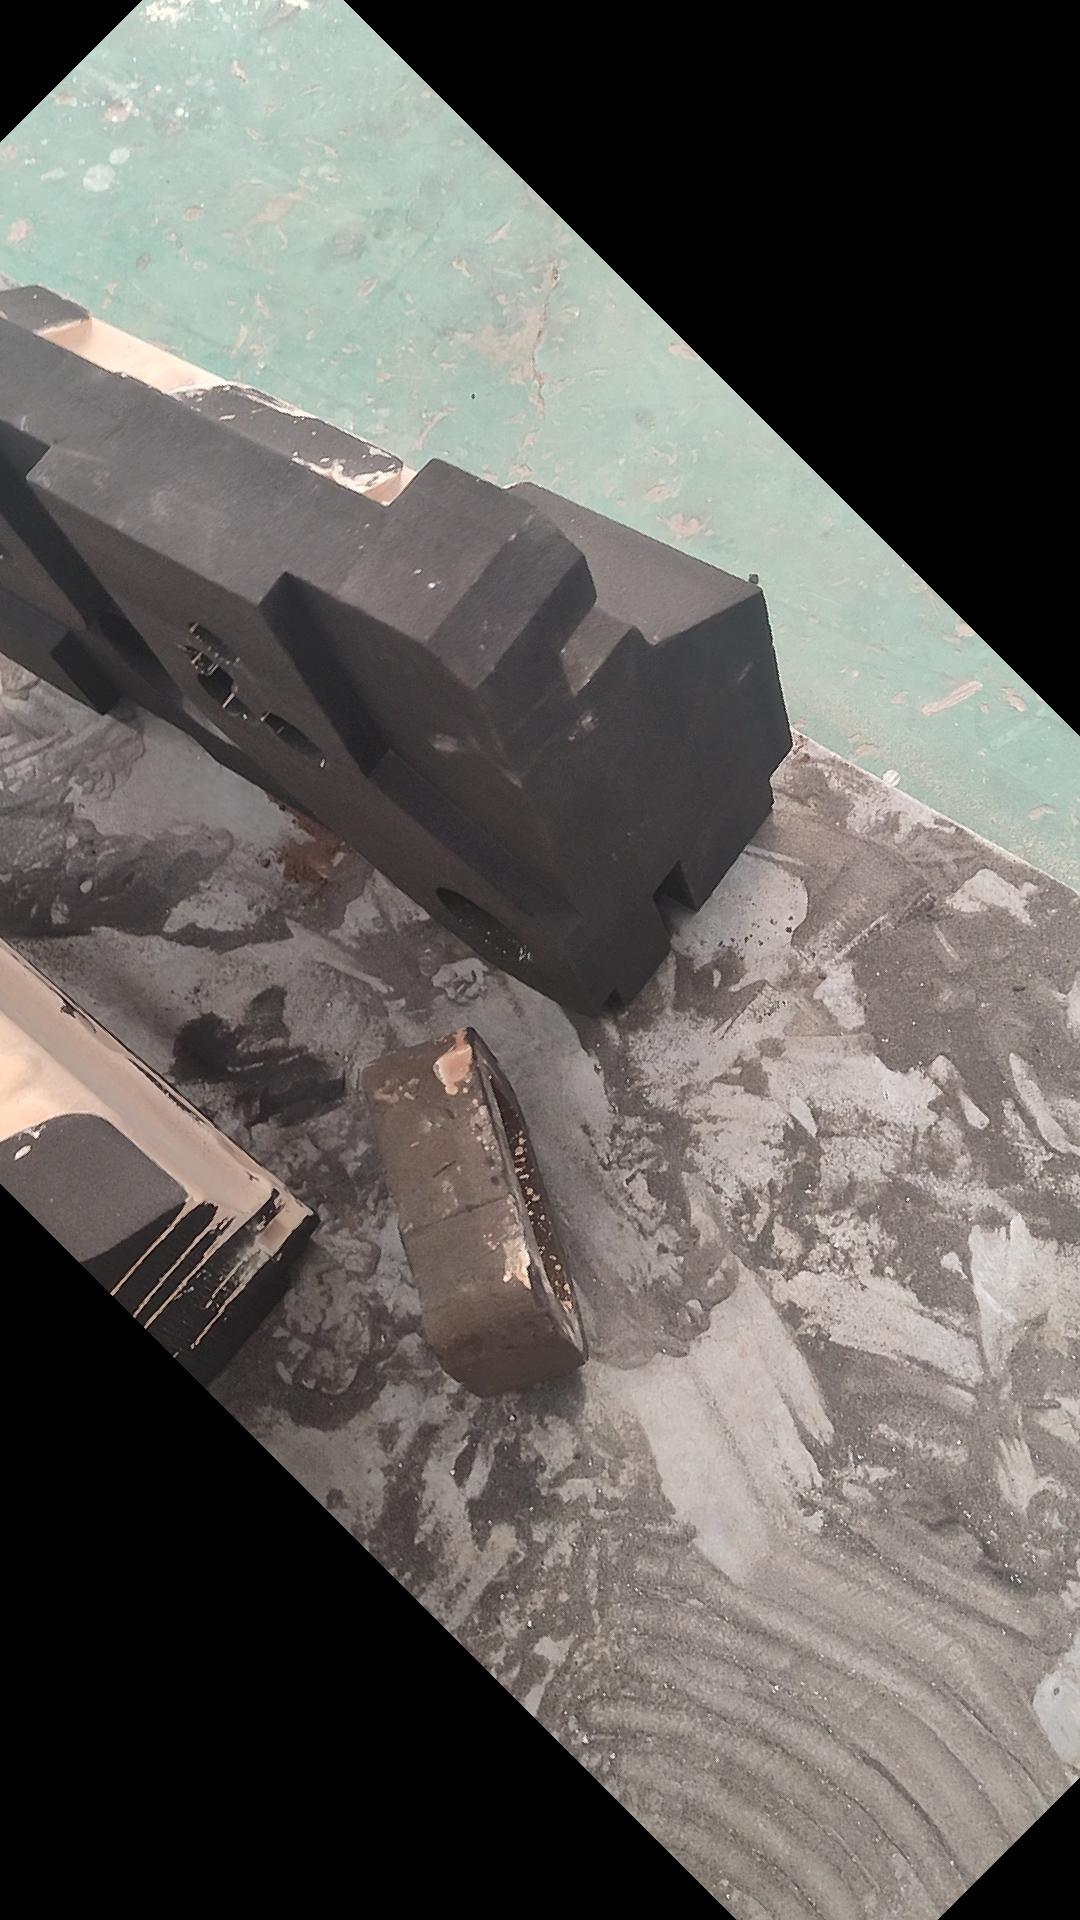pouring hole: (436, 887, 545, 973)
